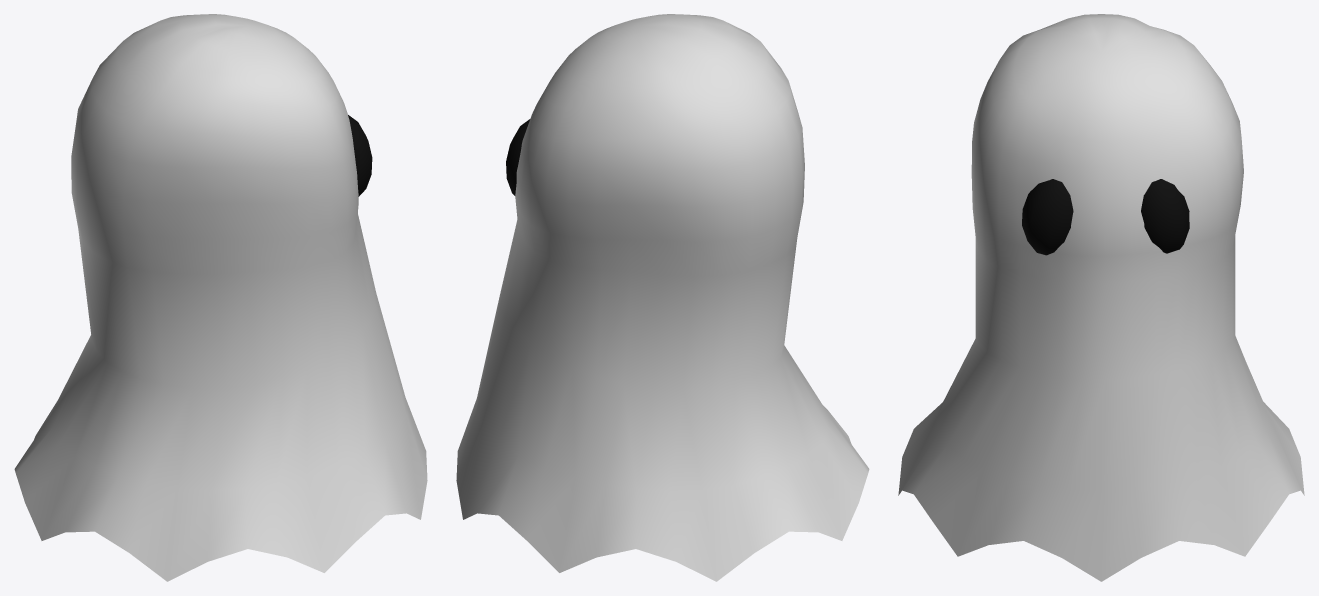
Rendered from ghosty.glb.
3 views of the same model, side by side, from view 1: azimuth 30°, elevation 25°; view 2: azimuth 150°, elevation 25°; view 3: azimuth 270°, elevation 25° (orthographic).
Visible parts, largest first — view 1: Sphere, Sphere.001; view 2: Sphere, Sphere.001; view 3: Sphere, Sphere.001.
Boxes of the visible parts, <box> form: Sphere: <box>14,14,427,581</box>; Sphere.001: <box>348,115,372,196</box>; Sphere: <box>456,14,869,581</box>; Sphere.001: <box>506,119,529,195</box>; Sphere: <box>898,14,1304,581</box>; Sphere.001: <box>1022,179,1189,255</box>.
Size of the model in its own units: 2.58 by 3.23 by 2.58.
1 material, 1 textured.
